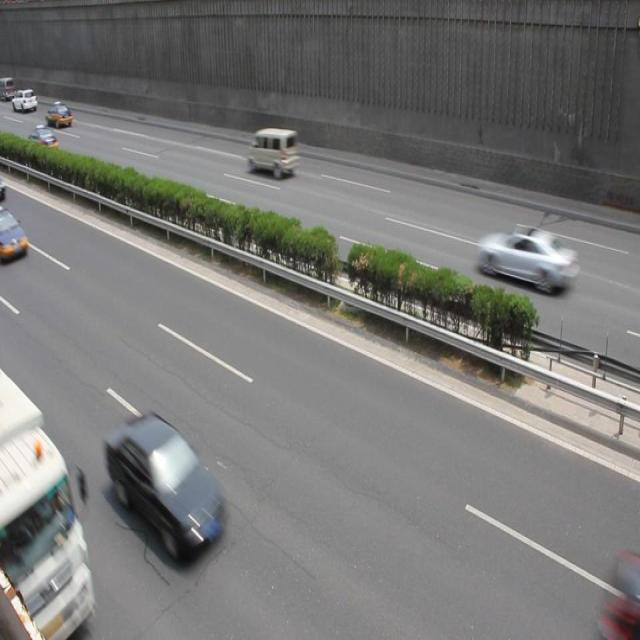car: (103, 409, 225, 556), (476, 225, 580, 293), (600, 550, 640, 640), (1, 204, 30, 264), (26, 124, 59, 160), (44, 101, 72, 129)
truck: (245, 126, 299, 177)
